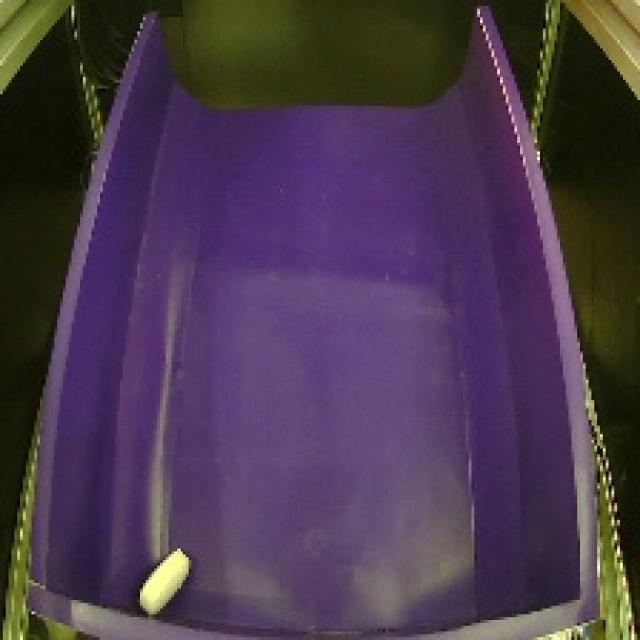small: (137, 544, 195, 620)
